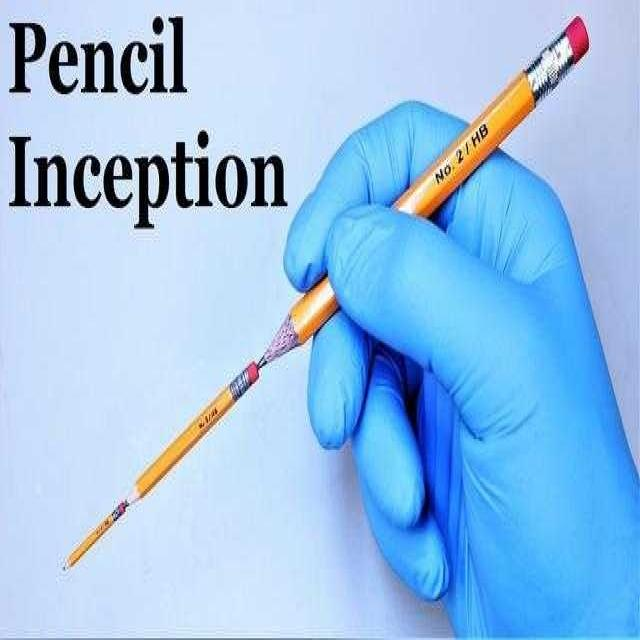pencil: (255, 4, 602, 378), (122, 347, 267, 516), (52, 493, 130, 593)
